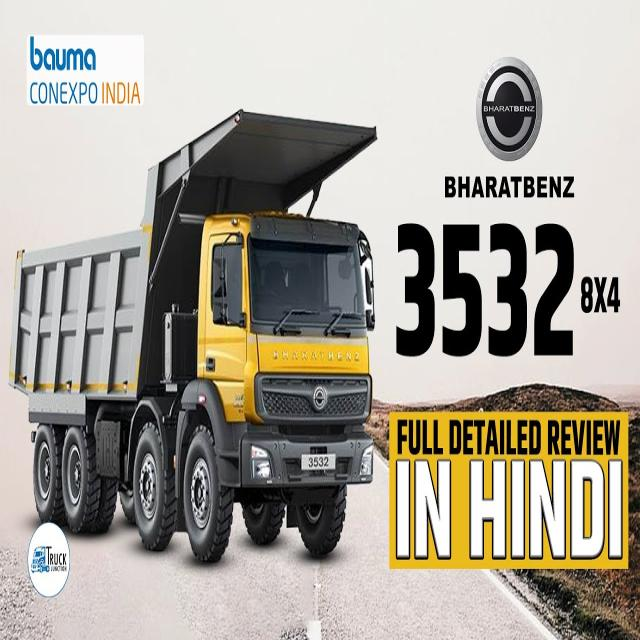truck: (10, 111, 376, 562)
